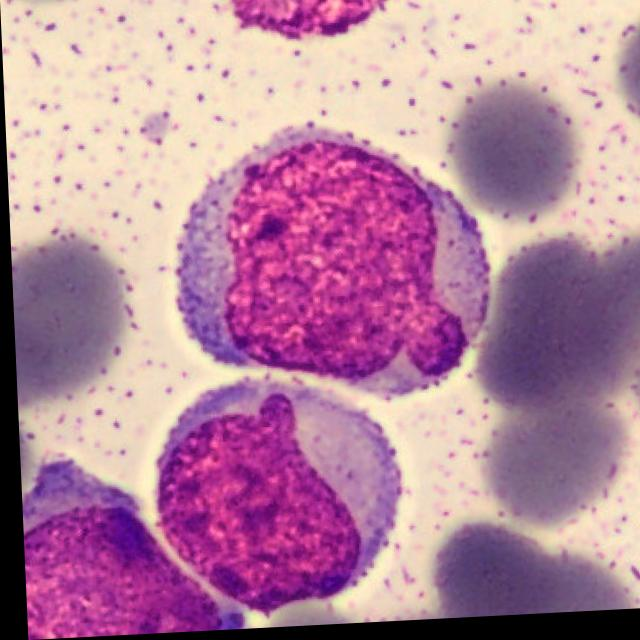Mieloblasto: (167, 135, 487, 401), (151, 387, 391, 615), (17, 460, 240, 640)
